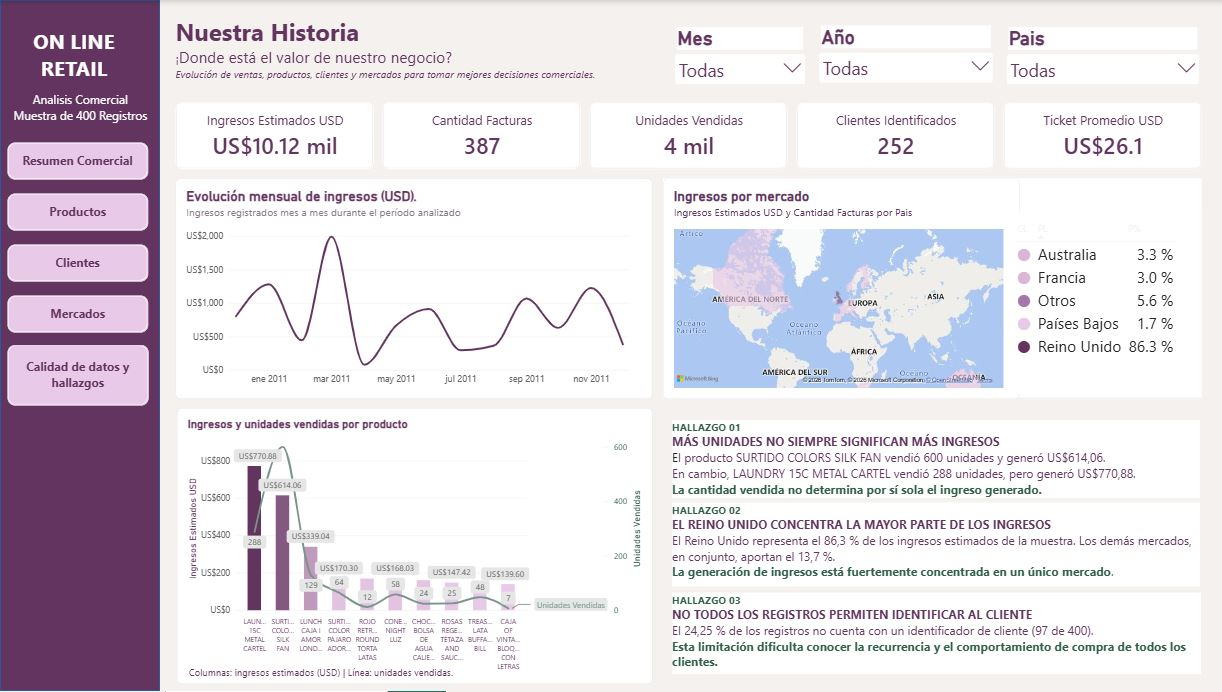

The page's visual inventory and layout, read from the dashboard file:
{"tool":"powerbi","page":{"name":"Resumen Comercial","canvas":[1920,1080],"ordinal":0},"visuals":[{"type":"shape","box":[10,0,250,1080],"z":0},{"type":"textbox","box":[32.5,43.4,184.3,100.3],"z":1000},{"type":"textbox","box":[9.5,142.2,251.2,56.9],"z":2000},{"type":"actionButton","box":[22.3,222.7,220,58],"z":3000},{"type":"actionButton","box":[22.3,302.1,220,58],"z":4000},{"type":"actionButton","box":[22.3,381.5,220,58],"z":5000},{"type":"actionButton","box":[22.3,460.9,220,58],"z":6000},{"type":"actionButton","box":[21.3,540.2,220.4,94.8],"z":7000},{"type":"shape","box":[1045.6,279.3,841.7,342.3],"z":8000},{"type":"textbox","box":[283.6,24.4,677.2,146.7],"z":9000},{"type":"cardVisual","fields":{"Data":["Medidas Dashboard.Ingresos Estimados USD"]},"box":[283.9,158.4,310,105],"z":10000},{"type":"cardVisual","fields":{"Data":["Medidas Dashboard.Cantidad Facturas"]},"box":[607.6,158.4,310,105],"z":11000},{"type":"cardVisual","fields":{"Data":["Medidas Dashboard.Clientes Identificados"]},"box":[1255,158.4,310,105],"z":12000},{"type":"cardVisual","fields":{"Data":["Medidas Dashboard.Ticket Promedio USD"]},"box":[1578.7,158.4,310,105],"z":13000},{"type":"cardVisual","fields":{"Data":["Medidas Dashboard.Unidades Vendidas"]},"box":[931.3,158.4,310,105],"z":14000},{"type":"lineChart","title":"Evolución mensual de ingresos (USD).","fields":{"Category":["Online_Retail_limpio_para_PowerBI.FechaFactura.Variation.Jerarquía de fechas.Año","Online_Retail_limpio_para_PowerBI.FechaFactura.Variation.Jerarquía de fechas.Mes"],"Y":["Medidas Dashboard.Ingresos Estimados USD"]},"box":[283.7,279.3,745.5,344.6],"z":15000},{"type":"filledMap","title":"Ingresos por mercado","fields":{"Category":["Online_Retail_limpio_para_PowerBI.Pais"]},"box":[1045.6,279,558,344.6],"z":16000},{"type":"tableEx","fields":{"Values":["Medidas Dashboard.Circulo Leyenda","Leyenda Mercados.PaisLeyenda","Medidas Dashboard.Participación Leyenda %"]},"box":[1577.8,330.6,309.5,283.7],"z":17000},{"type":"lineClusteredColumnComboChart","title":"Ingresos y unidades vendidas por producto","fields":{"Category":["Online_Retail_limpio_para_PowerBI.DescripcionProducto"],"Y":["Medidas Dashboard.Ingresos Estimados USD"],"Y2":["Medidas Dashboard.Unidades Vendidas"]},"box":[286,637.7,743.2,431.4],"z":18000},{"type":"textbox","box":[1058.8,655.8,825.3,121.9],"z":19000},{"type":"textbox","box":[1058.8,785.9,825.3,131.3],"z":20000},{"type":"textbox","box":[1058.6,926.6,826.4,127.1],"z":21000},{"type":"slicer","fields":{"Values":["Online_Retail_limpio_para_PowerBI.Pais"]},"box":[1576.9,41.6,310.5,105.1],"z":22000},{"type":"slicer","fields":{"Values":["Online_Retail_limpio_para_PowerBI.FechaFactura.Variation.Jerarquía de fechas.Año"]},"box":[1284.8,40.6,281.2,90.5],"z":23000},{"type":"slicer","fields":{"Values":["Online_Retail_limpio_para_PowerBI.FechaFactura.Variation.Jerarquía de fechas.Mes"]},"box":[1058.6,41.6,212.7,107.6],"z":24000},{"type":"textbox","box":[304.8,1040.9,724.4,28.1],"z":26501}]}

Visuals, with their boxes in screenshot pixels (x1, y1, x2, y2), scaled from the page's 1920x1080 canvas onto the 1222x692 screenshot:
shape: l=6, t=0, r=165, b=691
textbox: l=21, t=28, r=138, b=92
textbox: l=6, t=91, r=166, b=128
actionButton: l=14, t=143, r=154, b=180
actionButton: l=14, t=194, r=154, b=231
actionButton: l=14, t=244, r=154, b=282
actionButton: l=14, t=295, r=154, b=332
actionButton: l=14, t=346, r=154, b=407
shape: l=665, t=179, r=1201, b=398
textbox: l=180, t=16, r=612, b=110
cardVisual - Medidas Dashboard.Ingresos Estimados USD: l=181, t=101, r=378, b=169
cardVisual - Medidas Dashboard.Cantidad Facturas: l=387, t=101, r=584, b=169
cardVisual - Medidas Dashboard.Clientes Identificados: l=799, t=101, r=996, b=169
cardVisual - Medidas Dashboard.Ticket Promedio USD: l=1005, t=101, r=1202, b=169
cardVisual - Medidas Dashboard.Unidades Vendidas: l=593, t=101, r=790, b=169
"Evolución mensual de ingresos (USD)." lineChart: l=181, t=179, r=655, b=400
"Ingresos por mercado" filledMap: l=665, t=179, r=1021, b=400
tableEx - Medidas Dashboard.Circulo Leyenda x Leyenda Mercados.PaisLeyenda: l=1004, t=212, r=1201, b=394
"Ingresos y unidades vendidas por producto" lineClusteredColumnComboChart: l=182, t=409, r=655, b=685
textbox: l=674, t=420, r=1199, b=498
textbox: l=674, t=504, r=1199, b=588
textbox: l=674, t=594, r=1200, b=675
slicer - Online_Retail_limpio_para_PowerBI.Pais: l=1004, t=27, r=1201, b=94
slicer - Online_Retail_limpio_para_PowerBI.FechaFactura.Variation.Jerarquía de fechas.Año: l=818, t=26, r=997, b=84
slicer - Online_Retail_limpio_para_PowerBI.FechaFactura.Variation.Jerarquía de fechas.Mes: l=674, t=27, r=809, b=96
textbox: l=194, t=667, r=655, b=685
